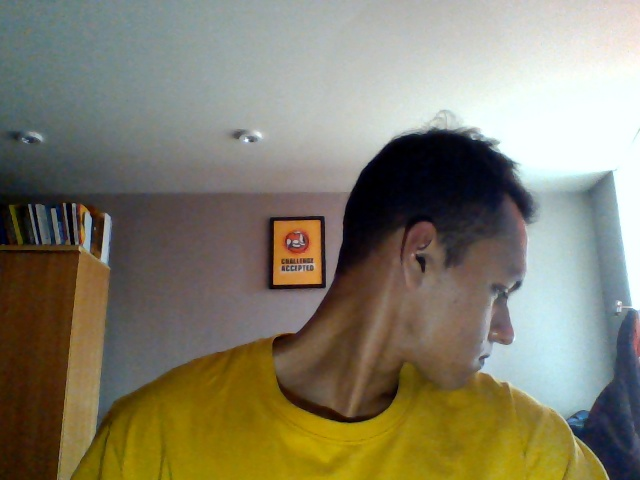no_mask: (387, 296, 538, 388)
